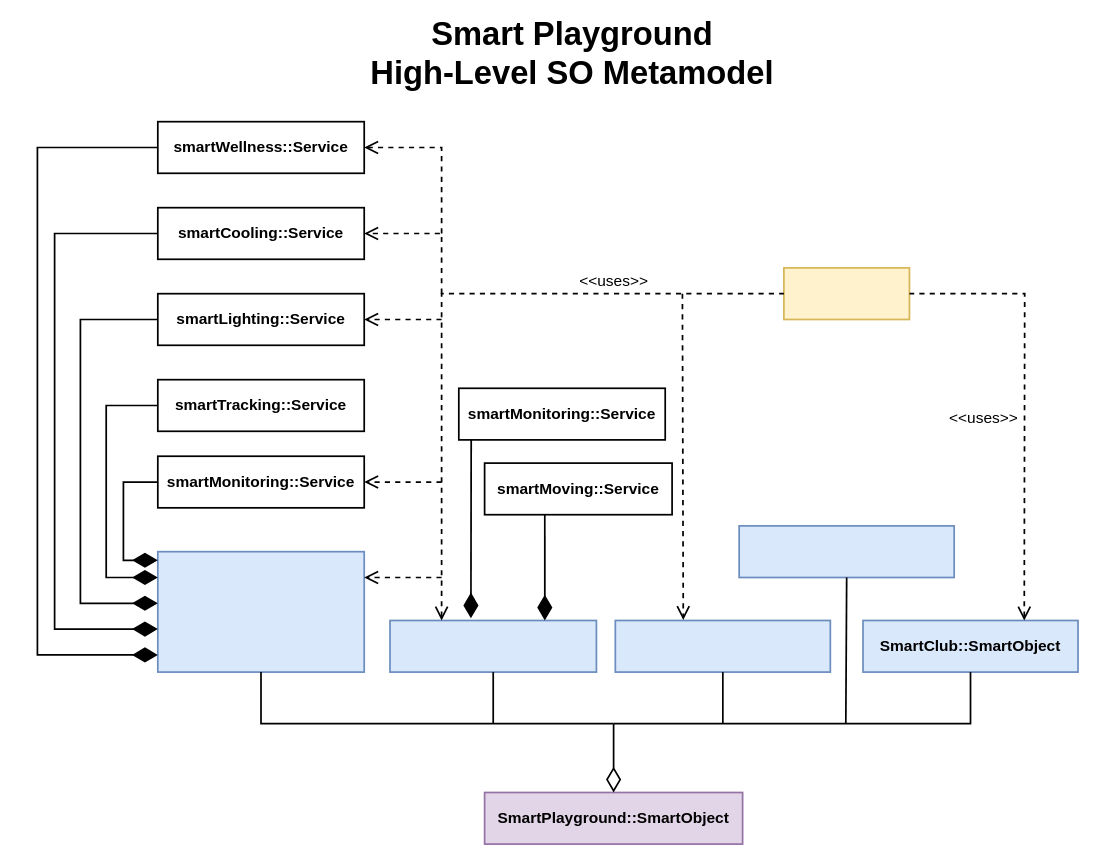
Some shapes in this 1093 by 860 pixel diagram are drawn without their labels. Each missing label, with the centre of its shape:
"Player::User" goes at (846,293).
"SmartBall::SmartObject" goes at (493,646).
"SmartField::SmartObject" goes at (261,611).
"SmartMotion::SmartObject" goes at (846,551).
"SmartRacket::SmartObject" goes at (722,646).
